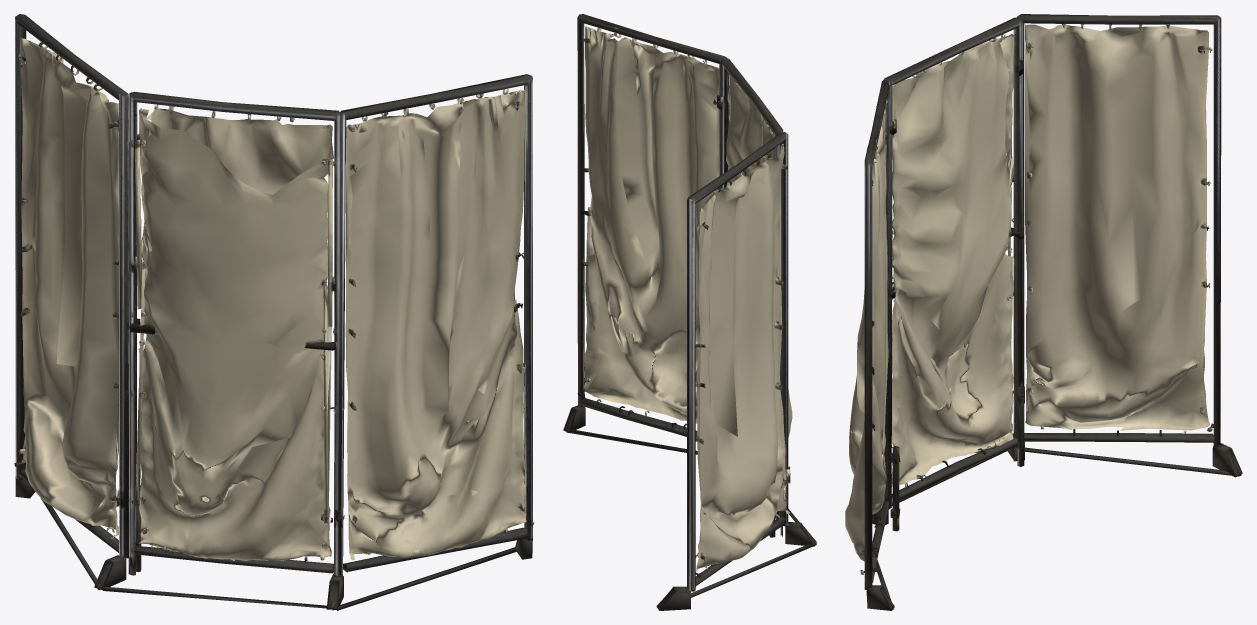
The picture shows the model from 3 angles, left to right: view 1: azimuth 30°, elevation 25°; view 2: azimuth 150°, elevation 25°; view 3: azimuth 270°, elevation 25°; orthographic projection. The views are drawn at different scales.
Visible parts, largest first — view 1: tripo_node_599c27ac-981b-4eeb-bf31-286a616c84a9; view 2: tripo_node_599c27ac-981b-4eeb-bf31-286a616c84a9; view 3: tripo_node_599c27ac-981b-4eeb-bf31-286a616c84a9.
Boxes of the visible parts, x1=… form: tripo_node_599c27ac-981b-4eeb-bf31-286a616c84a9: x1=14, y1=14, x2=534, y2=610; tripo_node_599c27ac-981b-4eeb-bf31-286a616c84a9: x1=563, y1=14, x2=816, y2=610; tripo_node_599c27ac-981b-4eeb-bf31-286a616c84a9: x1=845, y1=14, x2=1242, y2=610.
Size of the model in its own units: 0.7832 by 0.998 by 0.8027.
Materials: 1 (1 with a texture image).
